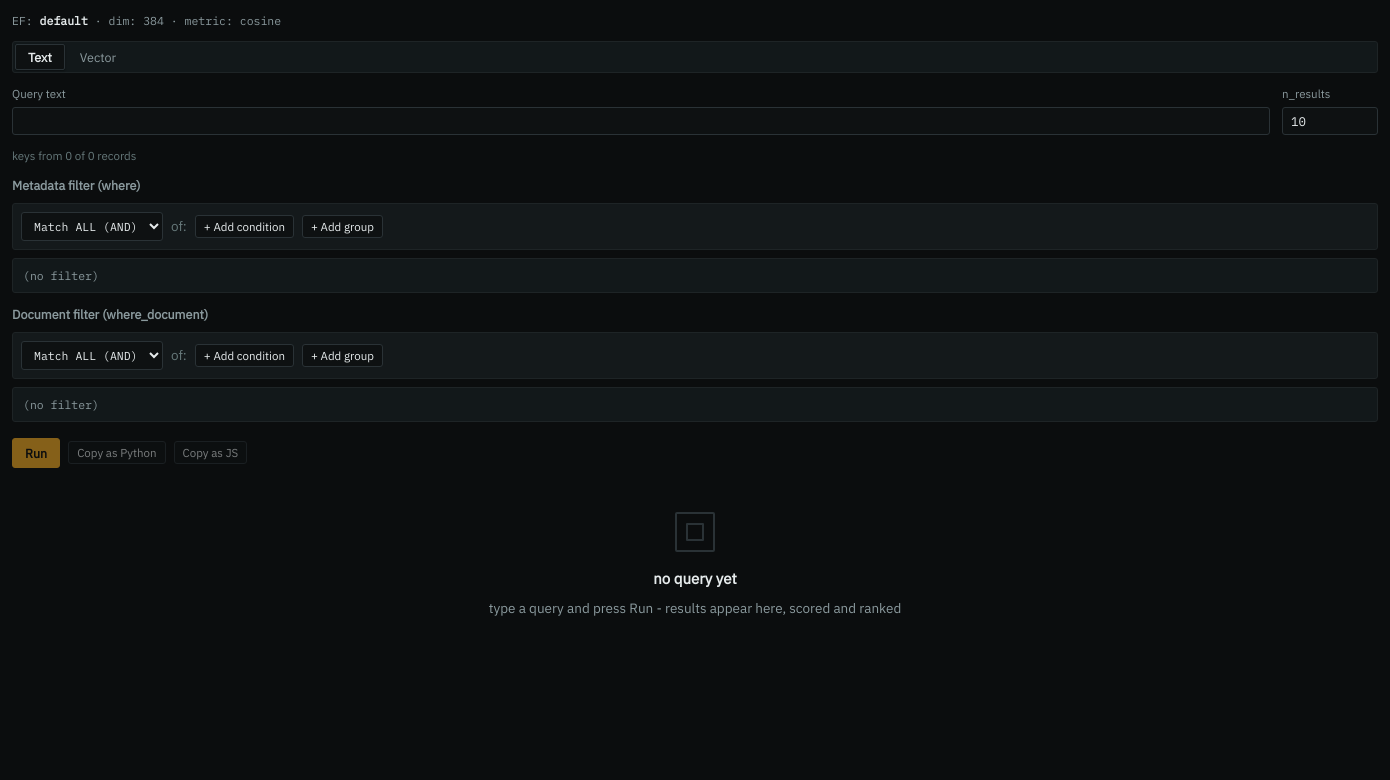
Test: the idle state does not sit under a failed run's error alert
This screenshot has width=1390, height=780.
Type "alpha" into the field labelled "Query text" at coordinates (641, 120), box [12,106,1270,134]
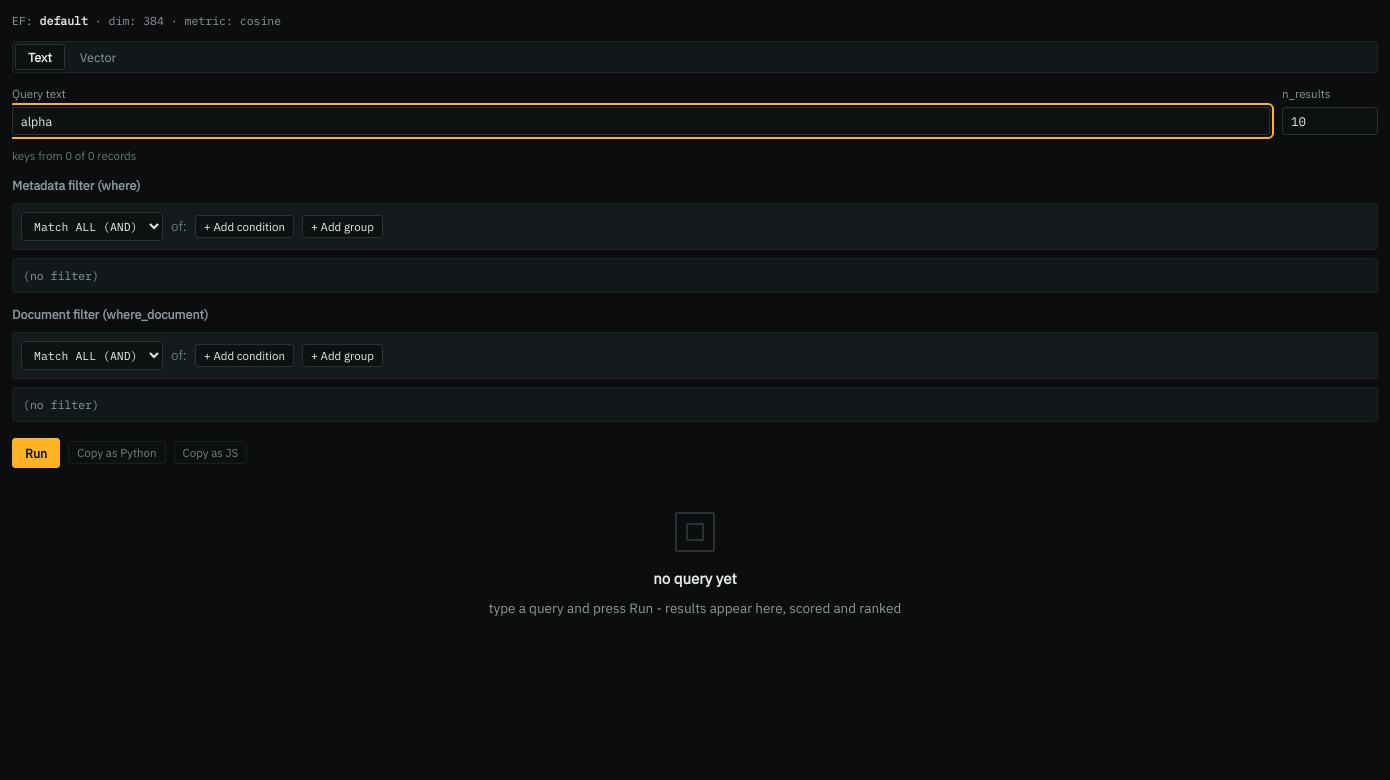
Expected: the text "no query yet" is shown, [653,568,737,590]
Click the button "Run" at coordinates (36, 453), box [12,438,60,468]
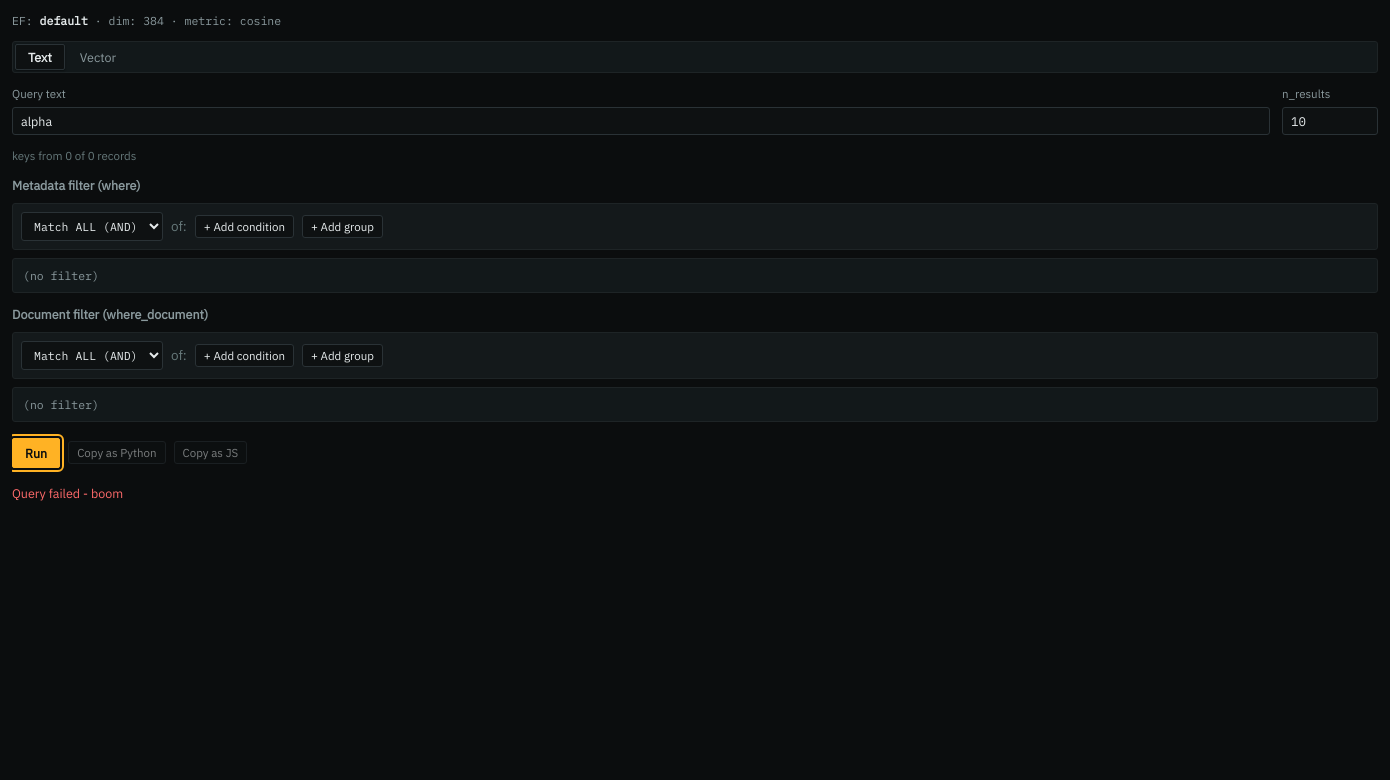
Now the message "Query failed - boom" is shown, box [12,485,123,501]
Now the text "no query yet" is gone
